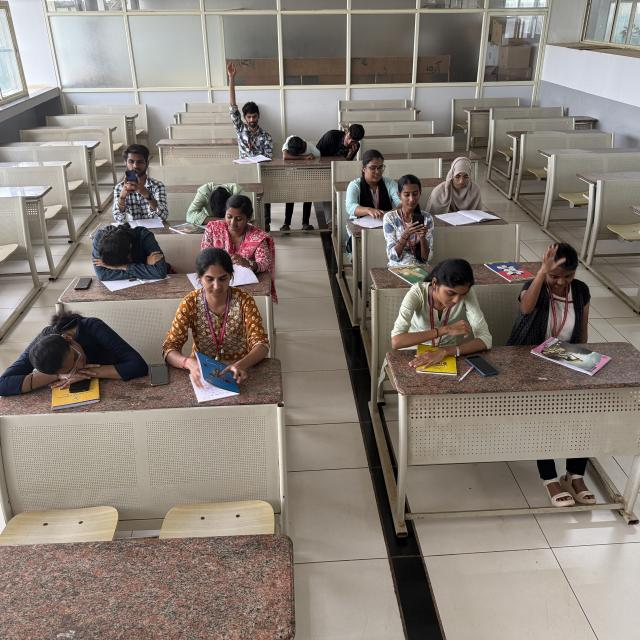Hand Rising: (504, 230, 619, 366), (220, 57, 278, 158)
Reading: (196, 195, 273, 281), (432, 153, 504, 228)
Sleeping: (6, 312, 148, 382), (86, 218, 170, 284), (187, 178, 255, 224), (279, 131, 325, 169)
Using Phone: (105, 142, 173, 218), (384, 172, 434, 254), (326, 121, 368, 163)
